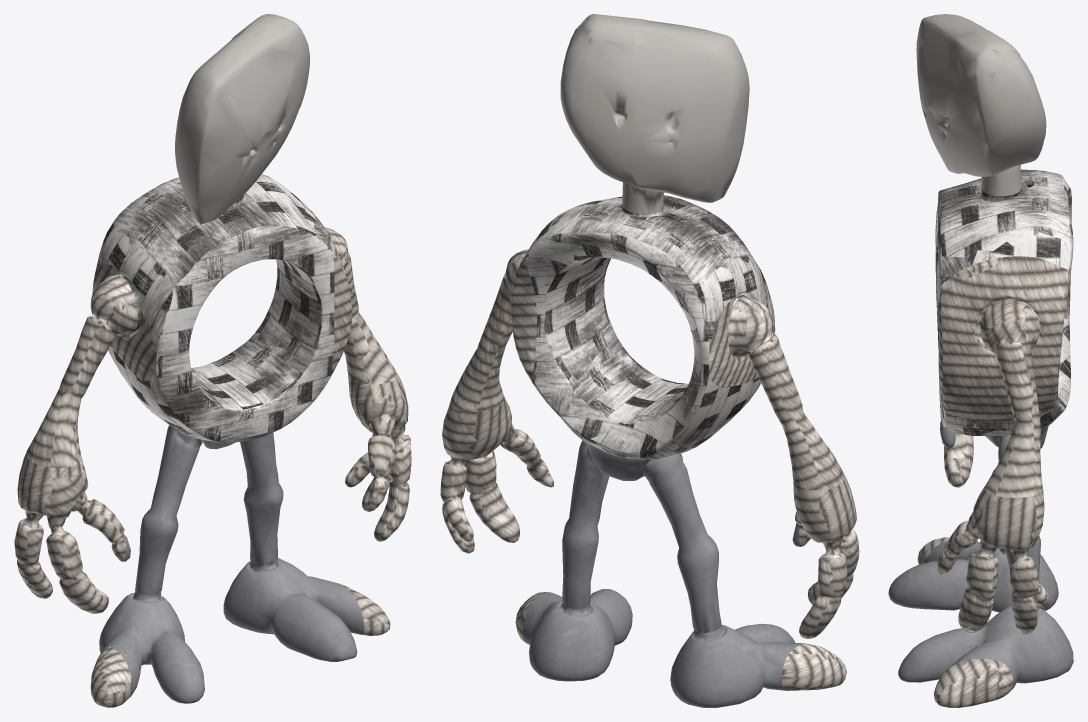
File: 03-pearl-orb-ring--circle_center.glb
3 views of the same model, side by side, from view 1: azimuth 30°, elevation 25°; view 2: azimuth 150°, elevation 25°; view 3: azimuth 270°, elevation 25° (orthographic). The views are drawn at different scales.
Visible parts, largest first — view 1: body_mesh, arms_mesh, feet_mesh, head_mesh; view 2: body_mesh, arms_mesh, head_mesh, feet_mesh; view 3: arms_mesh, head_mesh, body_mesh, feet_mesh.
Boxes of the visible parts, x1=… form: body_mesh: x1=93, y1=174, x2=334, y2=442; arms_mesh: x1=14, y1=202, x2=411, y2=707; feet_mesh: x1=99, y1=425, x2=364, y2=703; head_mesh: x1=175, y1=14, x2=309, y2=224; body_mesh: x1=525, y1=195, x2=774, y2=460; arms_mesh: x1=440, y1=229, x2=859, y2=690; head_mesh: x1=560, y1=14, x2=749, y2=214; feet_mesh: x1=523, y1=440, x2=804, y2=707; arms_mesh: x1=917, y1=256, x2=1070, y2=707; head_mesh: x1=916, y1=14, x2=1046, y2=196; body_mesh: x1=935, y1=169, x2=1073, y2=435; feet_mesh: x1=888, y1=402, x2=1073, y2=691.
Bounding box in the file's own units: 1.95 × 3 × 0.8088.
Materials: 4 (4 with a texture image).
